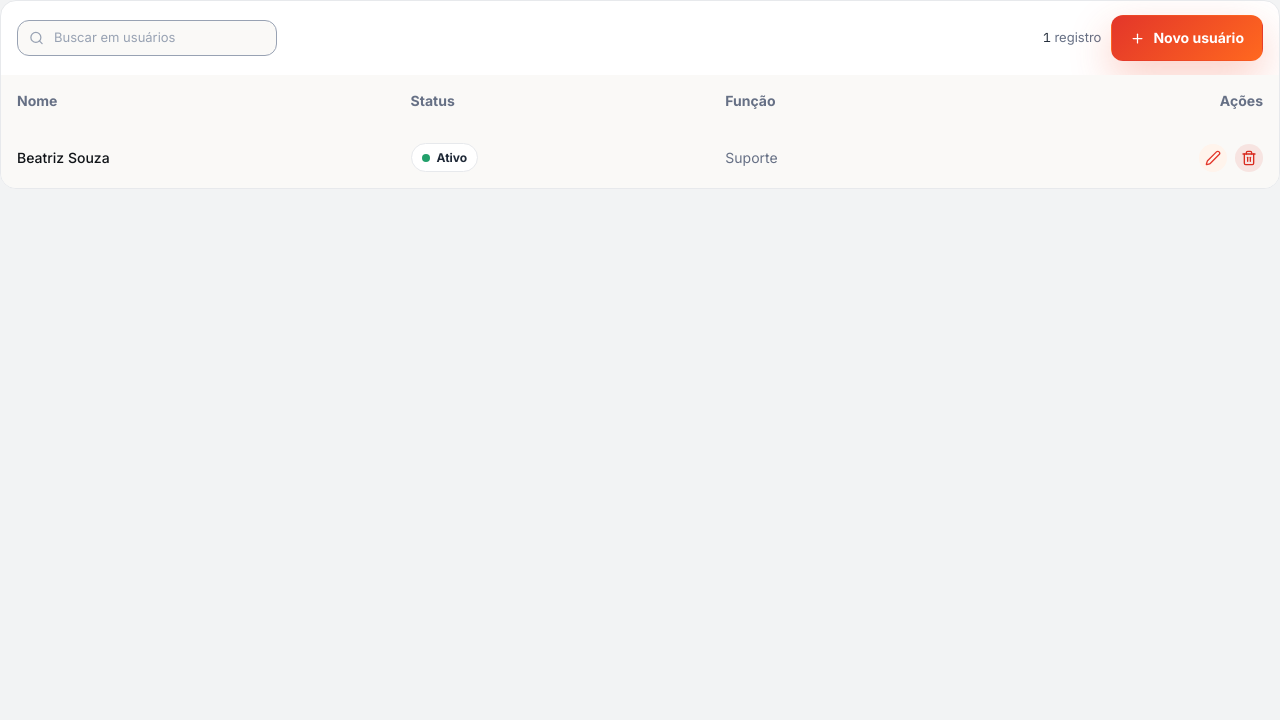
UsersPage › abre o formulário de novo usuário com todos os campos do cadastro
The width and height of the screenshot is (1280, 720).
expect the text "Beatriz Souza" is shown: met, box left=1, top=127, right=395, bottom=188
Click the button "Novo usuário": (1187,38) left=1111, top=15, right=1263, bottom=61
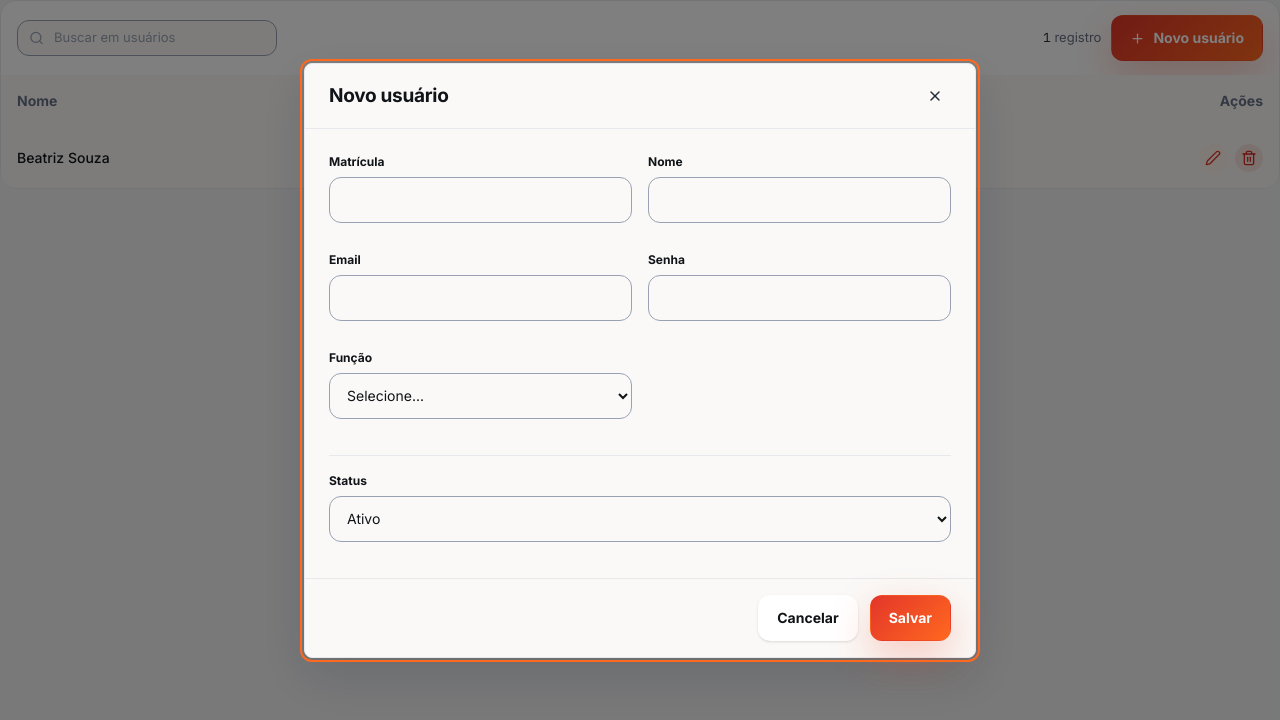
expect the field labelled "Matrícula" is shown: met, box left=329, top=176, right=632, bottom=222
expect the field labelled "Nome" is shown: met, box left=648, top=176, right=951, bottom=222
expect the field labelled "Email" is shown: met, box left=329, top=274, right=632, bottom=320
